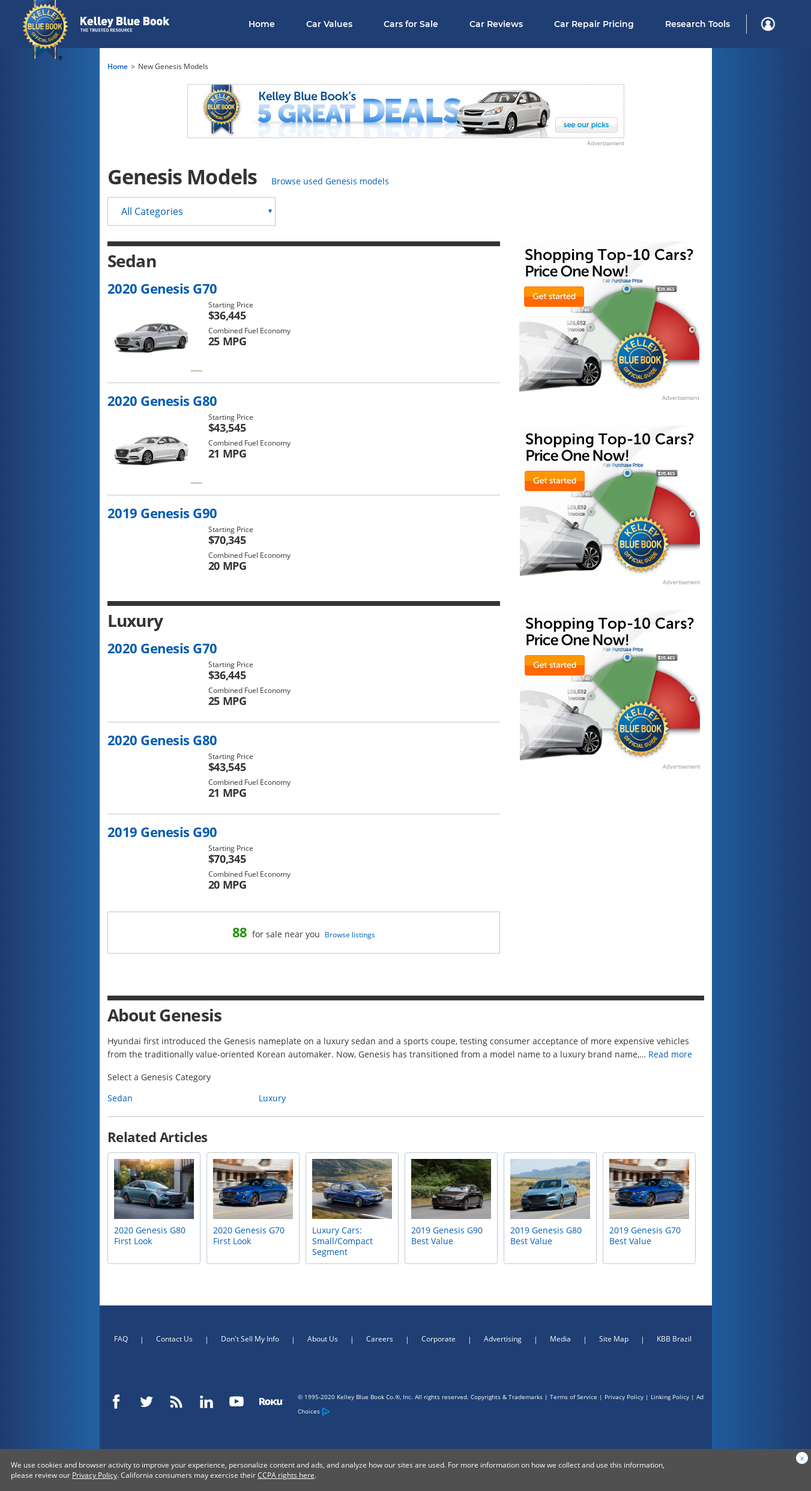fake_button: (519, 282, 589, 311), (524, 652, 586, 682), (519, 469, 588, 494)
